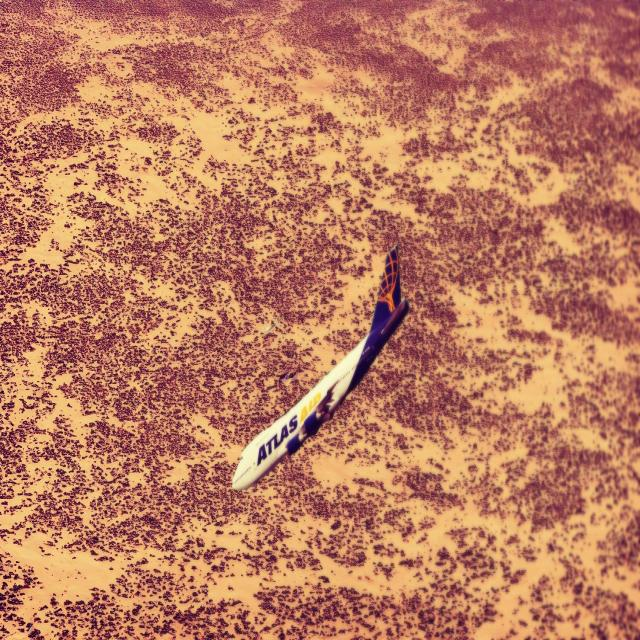airplane: (231, 242, 409, 492)
